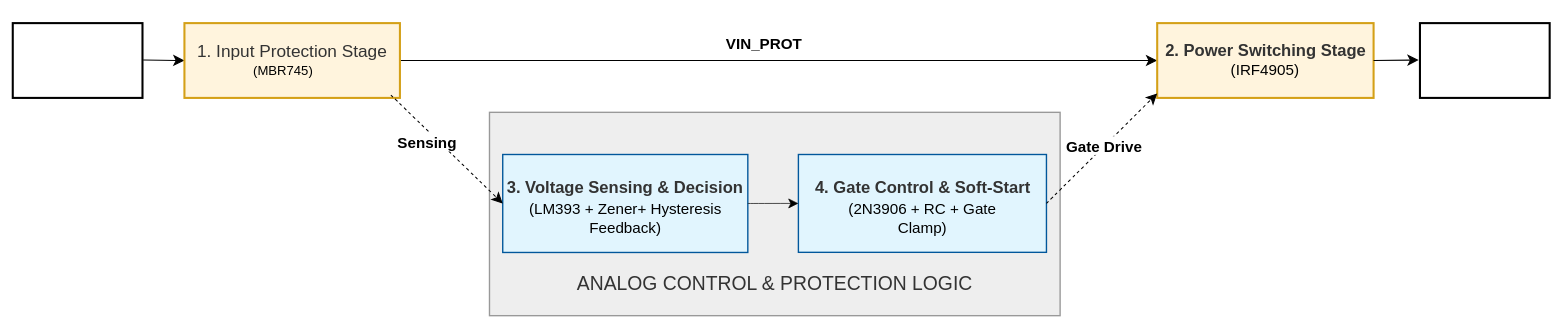
Some shapes in this 1563 by 328 pixel diagram are drawn without their labels. The shapes that lost their labels are listed below. From the top down, each one's centre as x and y in pixels, then its label:
point (77, 60): 12 Input
point (1484, 60): Protected Output (VOUT)
